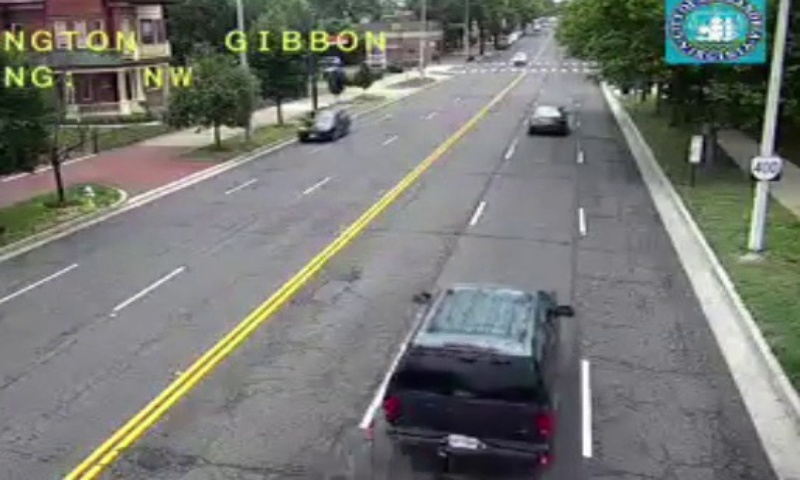car: (379, 285, 560, 469), (529, 105, 564, 133)
